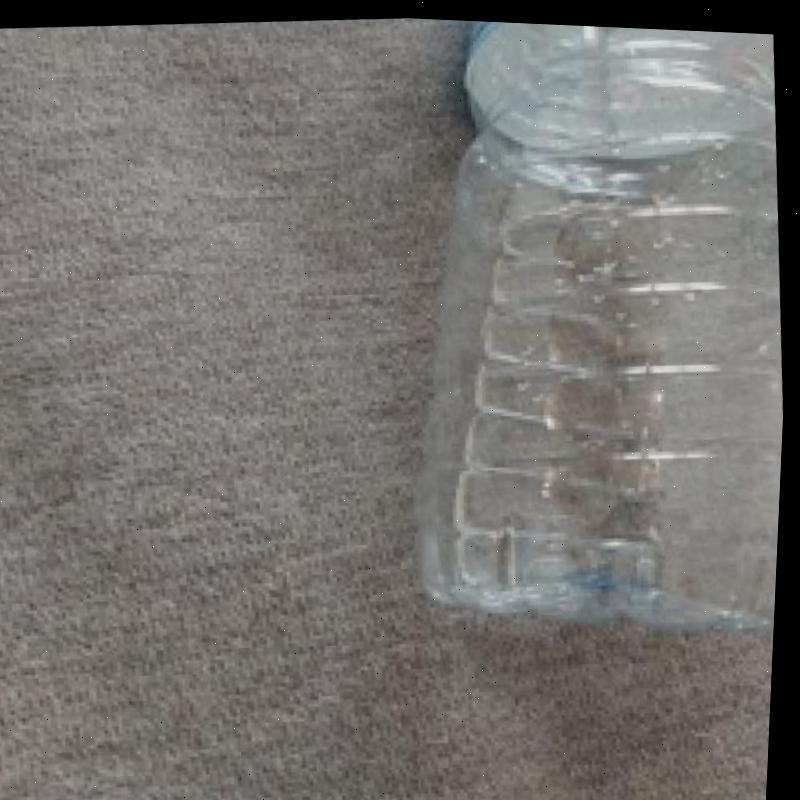botella: (386, 14, 800, 645)
